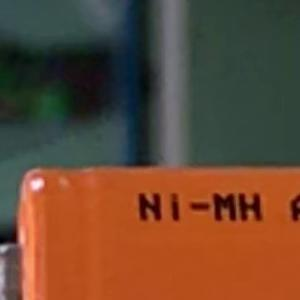keyword: (129, 184, 272, 230)
